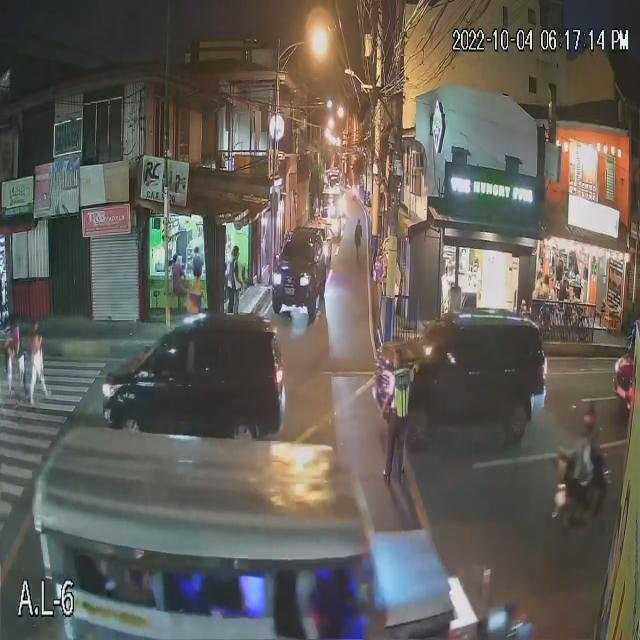motorcycle: (555, 460, 604, 514)
rider: (585, 440, 594, 487)
